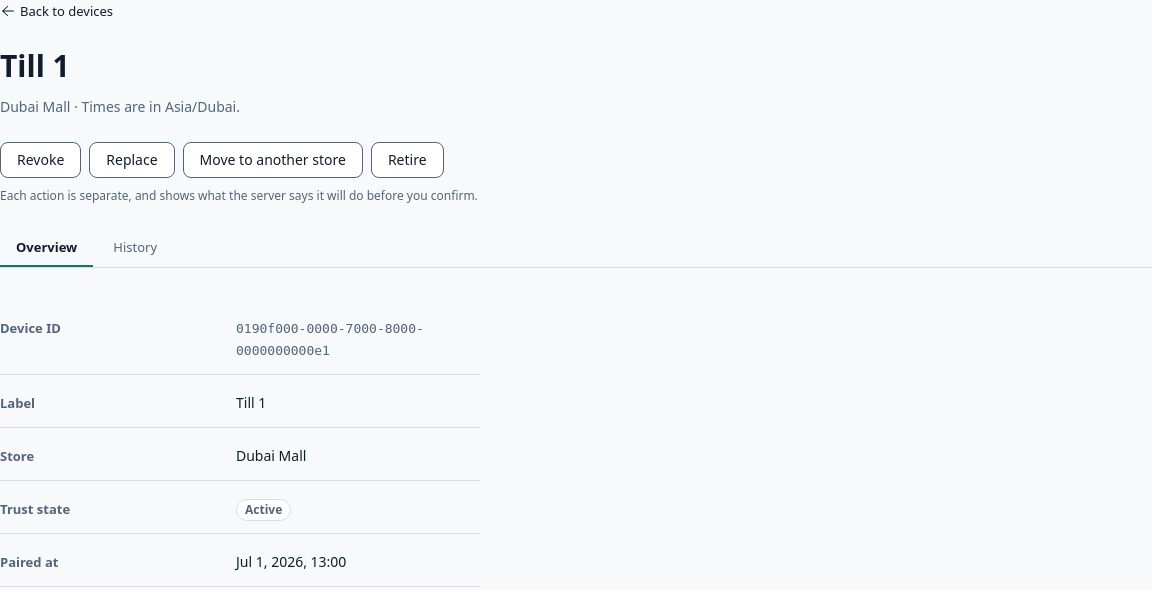
Test: Revoke (RT-372) › the security class is a separate group with its real-event warning; replaced, moved and retired are not offered
This screenshot has width=1152, height=590.
Expected: the heading "Till 1" is shown, [0,45,70,86]
Click the button "Revoke".
click(41, 160)  # box [0,142,81,178]
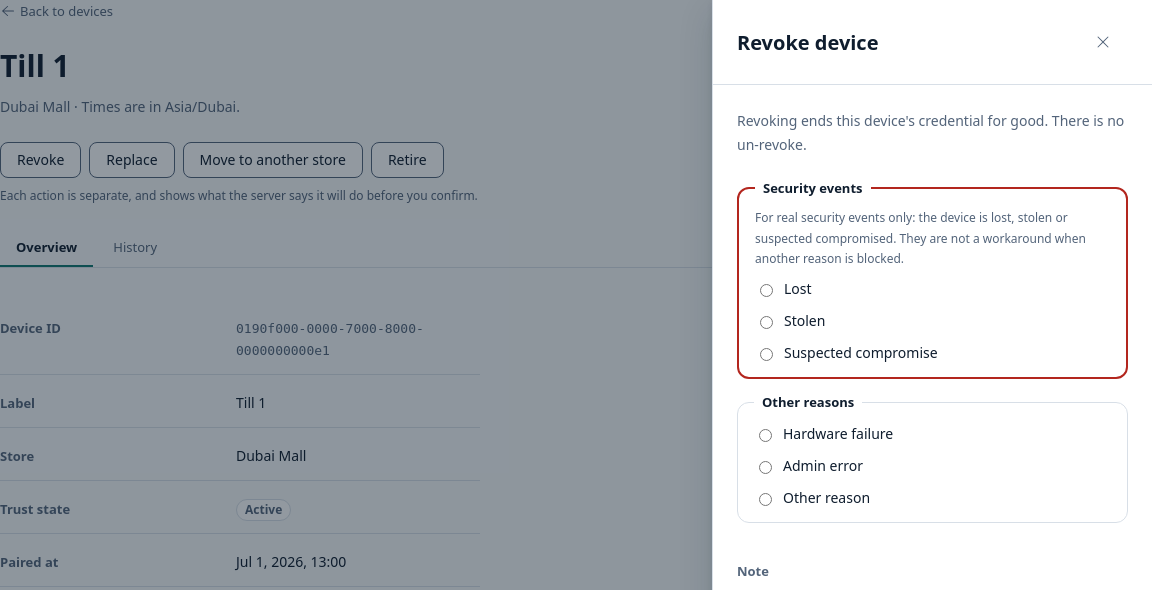
Result: the element "Security events" shows "not a workaround" at [755,209,1086,267]
